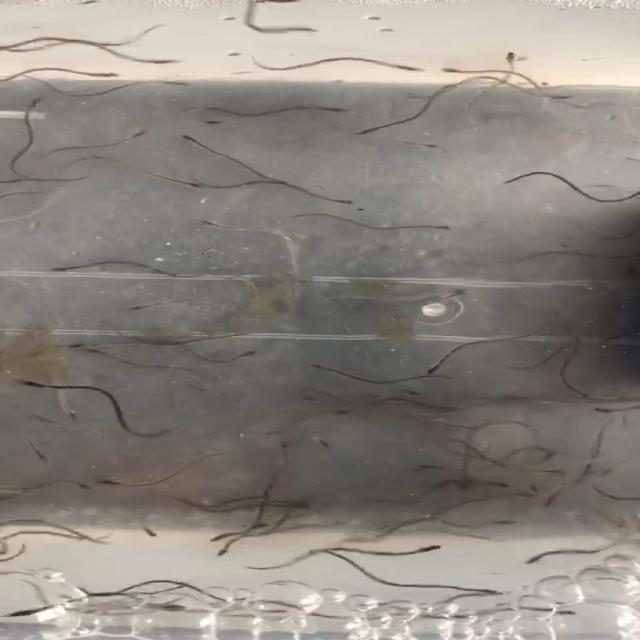active_glass_eel: (435, 288, 474, 304), (140, 77, 191, 89), (350, 124, 391, 138), (392, 385, 429, 399), (202, 530, 236, 545), (11, 605, 42, 621), (139, 58, 180, 70), (542, 606, 577, 620), (227, 351, 264, 364), (306, 105, 349, 116), (439, 64, 486, 74), (177, 177, 206, 193), (306, 433, 335, 449), (67, 478, 96, 494), (400, 141, 442, 152), (212, 539, 234, 560), (495, 49, 519, 68), (588, 403, 623, 416), (122, 127, 150, 143), (331, 198, 368, 210), (412, 461, 446, 474), (51, 262, 86, 274), (63, 338, 95, 351), (336, 403, 368, 416), (526, 496, 558, 509), (76, 342, 109, 354), (137, 522, 159, 540), (392, 61, 423, 73), (83, 70, 124, 79), (178, 131, 206, 144), (544, 88, 572, 101), (204, 218, 232, 231), (203, 116, 239, 126), (306, 361, 336, 373), (416, 542, 446, 554), (288, 501, 320, 512), (28, 445, 46, 464), (274, 440, 294, 457), (26, 412, 54, 424), (520, 480, 541, 496), (524, 552, 552, 564), (489, 478, 516, 490), (473, 582, 500, 594), (130, 303, 162, 313), (424, 359, 443, 375), (416, 224, 452, 232), (68, 405, 86, 421), (99, 476, 125, 487), (22, 97, 42, 110), (493, 517, 521, 526)
